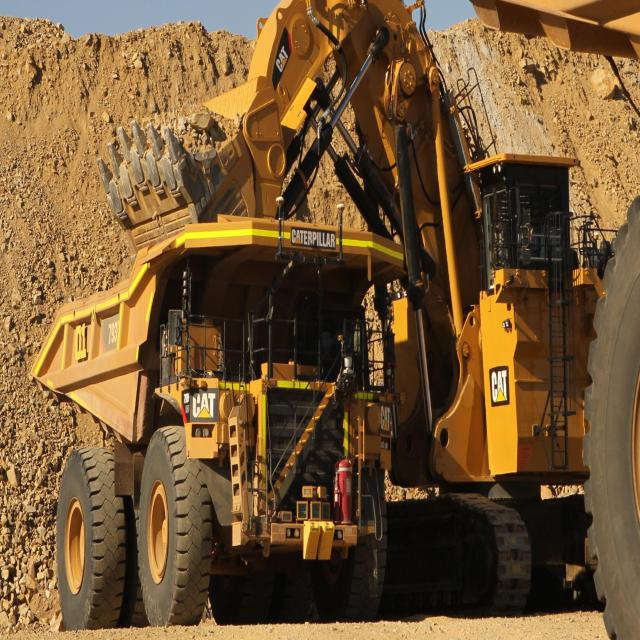dump_truck: (28, 206, 417, 634)
